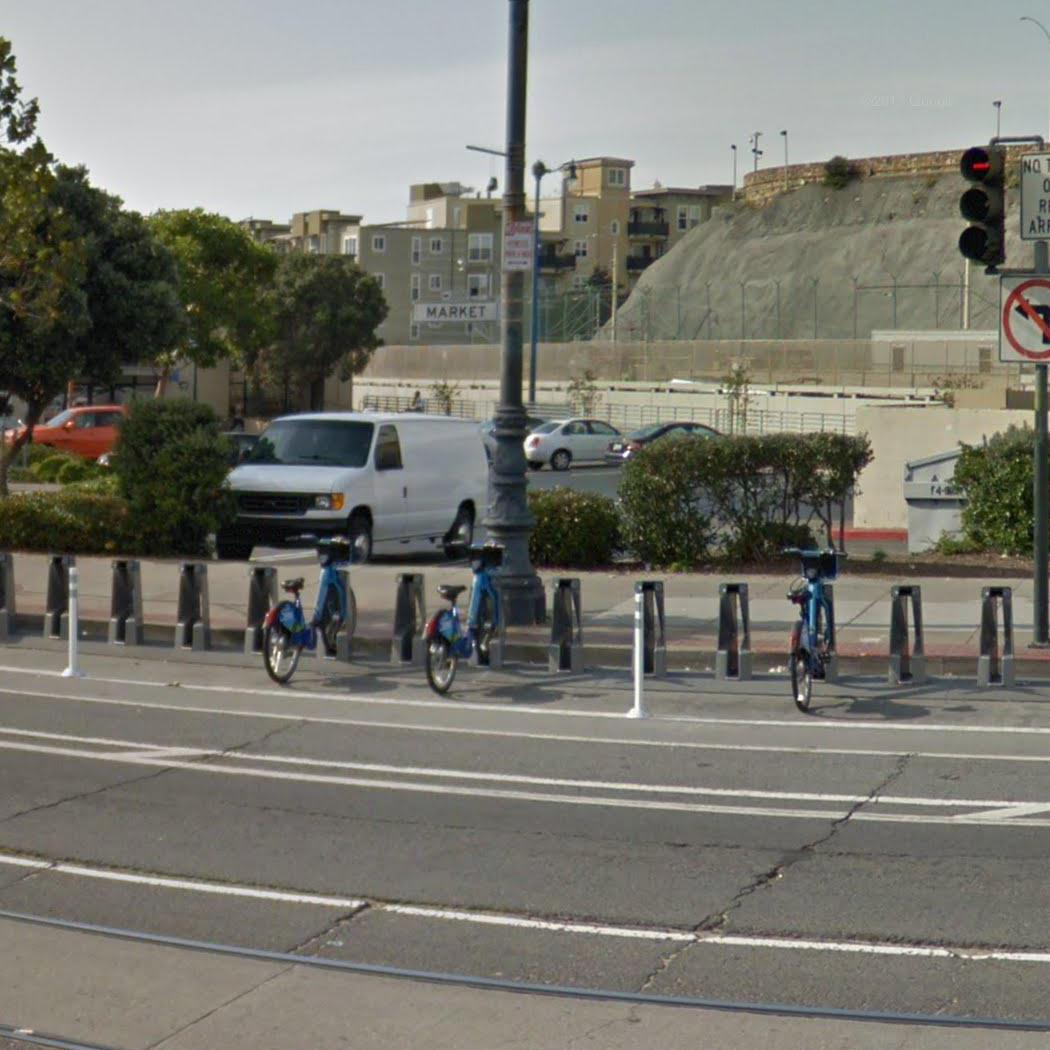No Parking: (502, 218, 538, 273)
